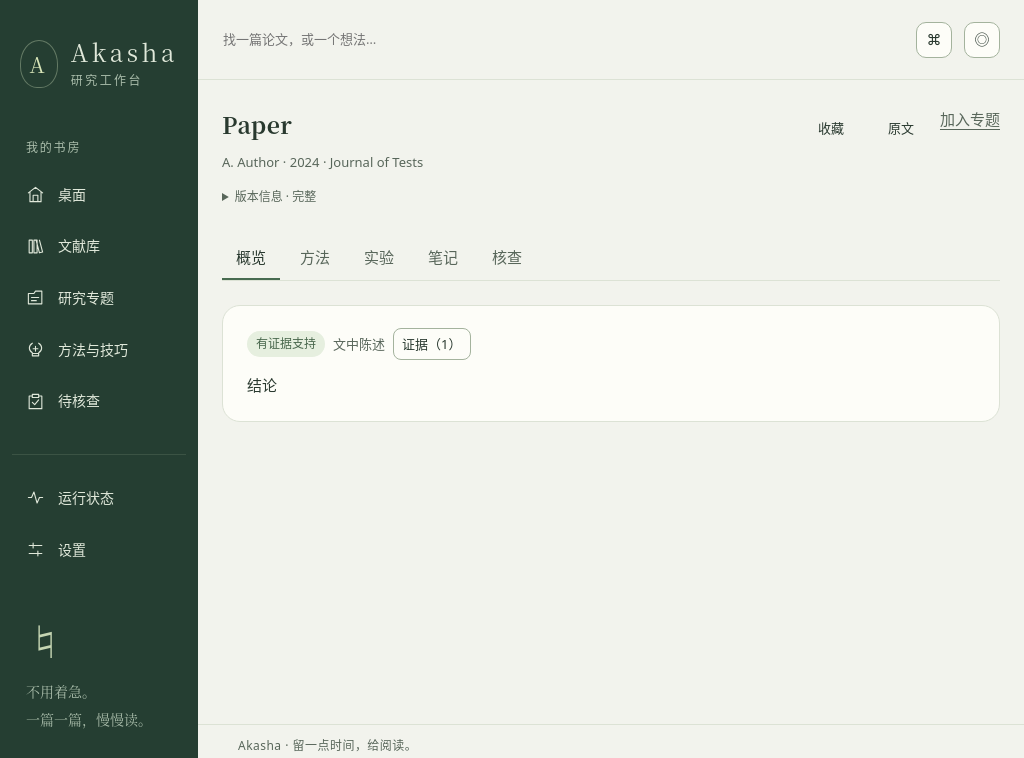
UX-031 note autosave debounces, flushes and merges conflicts › shows the save state in the editor and surfaces a conflict to the user
Expected: the element with test id "pinned-version" is shown, [235,188,316,205]
Click the tab "笔记" at (443, 259), box [414,238,472,280]
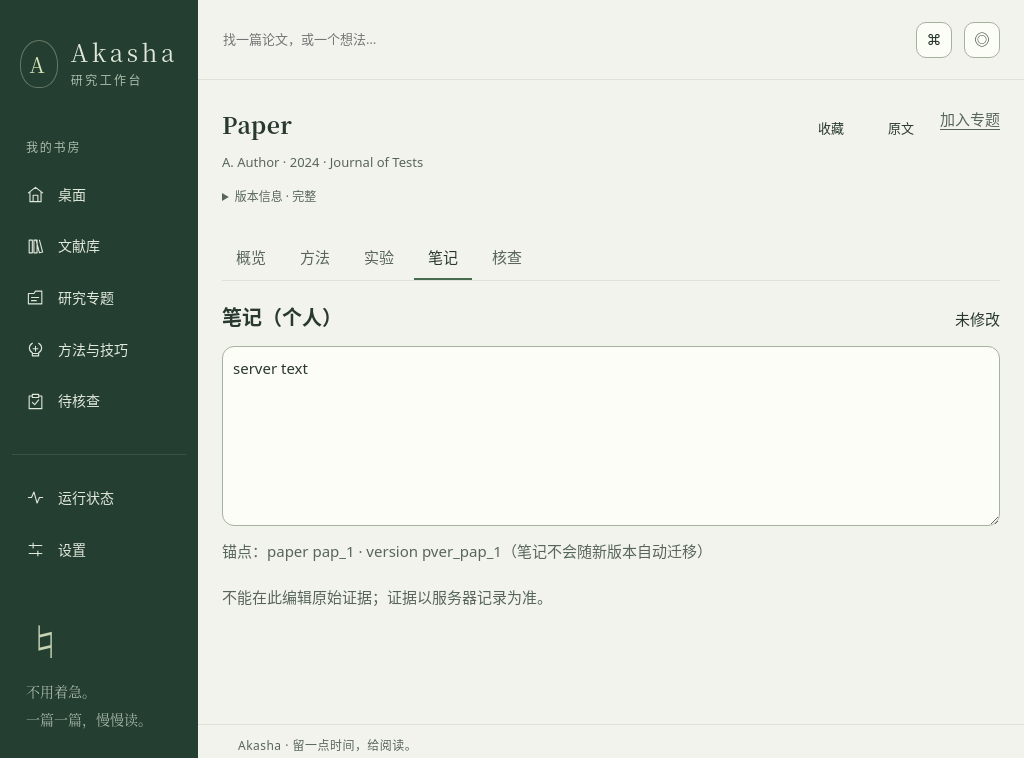
Now the text box named "笔记正文" holds "server text"
Replace the text in the text box named "笔记正文" with "my new draft" at (611, 436), box [222,346,1000,526]
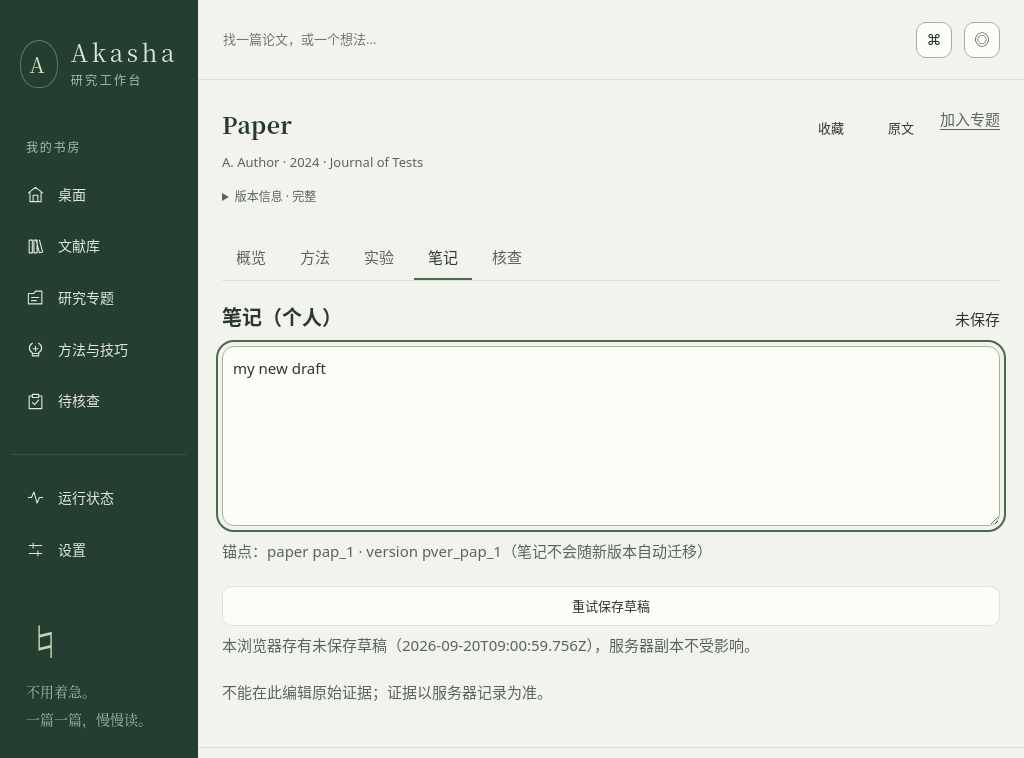
Note: Blur flushes instead of waiting for the debounce.
Press Tab
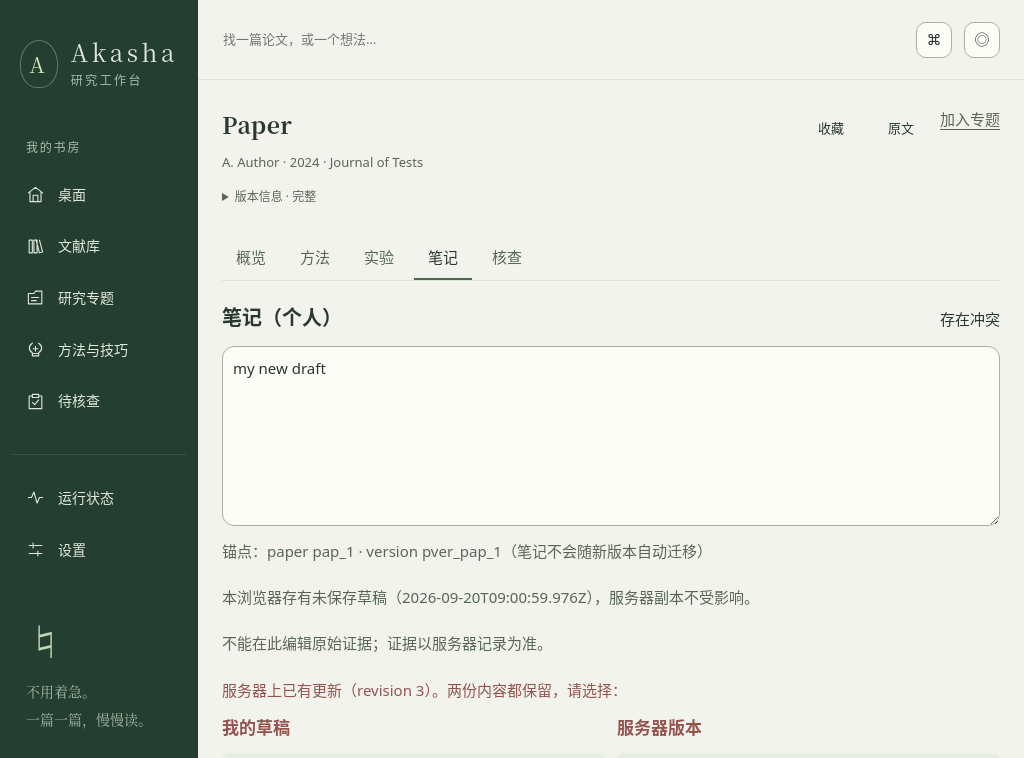
Now the text "不能在此编辑原始证据；证据以服务器记录为准。" is shown, box [222,633,552,653]
Now the message with test id "note-save-state" shows "冲突", box [940,308,1000,331]
